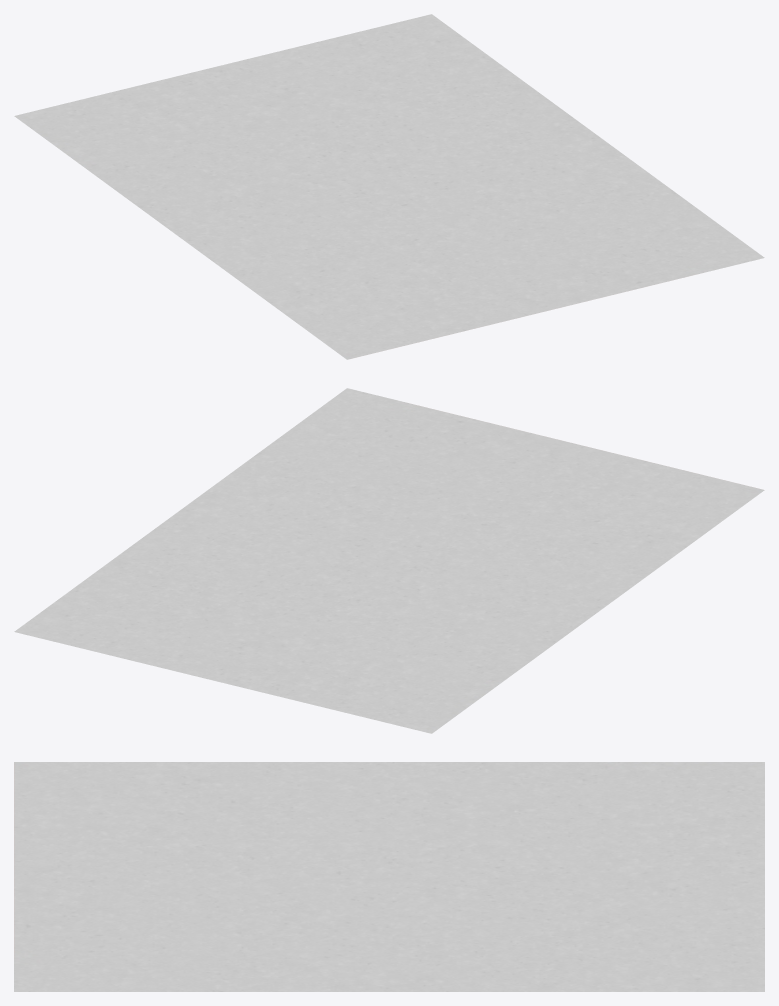
Rendered from sheet.gltf.
The picture shows the model from 3 angles, top to bottom: view 1: azimuth 30°, elevation 25°; view 2: azimuth 150°, elevation 25°; view 3: azimuth 270°, elevation 25°; orthographic projection. The views are drawn at different scales.
Parts seen in each view (by area): view 1: office_notepads_a4_a; view 2: office_notepads_a4_a; view 3: office_notepads_a4_a.
Boxes of the visible parts, x1=… form: office_notepads_a4_a: x1=14, y1=14, x2=764, y2=359; office_notepads_a4_a: x1=14, y1=388, x2=764, y2=733; office_notepads_a4_a: x1=14, y1=762, x2=764, y2=991.
Bounding box in the file's own units: 0.21 × 0 × 0.29.
Materials: 1 (1 with a texture image).
